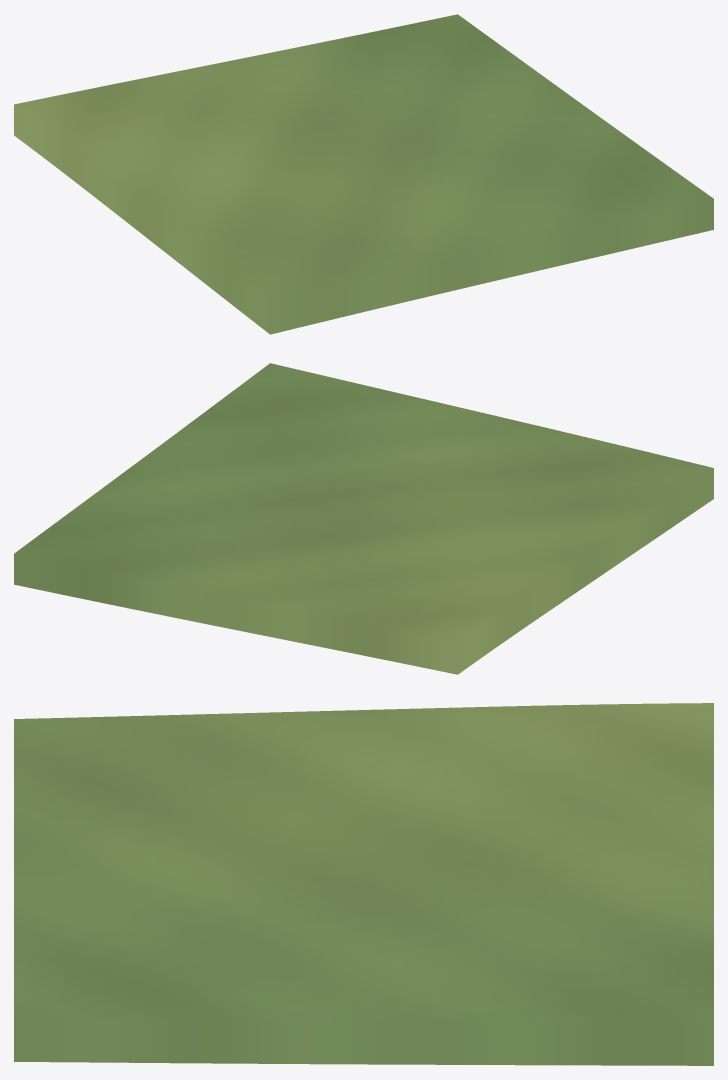
3 views of the same model, one above another, from view 1: azimuth 30°, elevation 25°; view 2: azimuth 150°, elevation 25°; view 3: azimuth 270°, elevation 25° (orthographic). The views are drawn at different scales.
Parts seen in each view (by area): view 1: terrain; view 2: terrain; view 3: terrain.
Part boxes in pixels (x1,y1,x2,y2): terrain: (14,14,713,334); terrain: (14,363,713,674); terrain: (14,703,713,1065).
Bounding box in the file's own units: 30 × 3.17 × 30.
